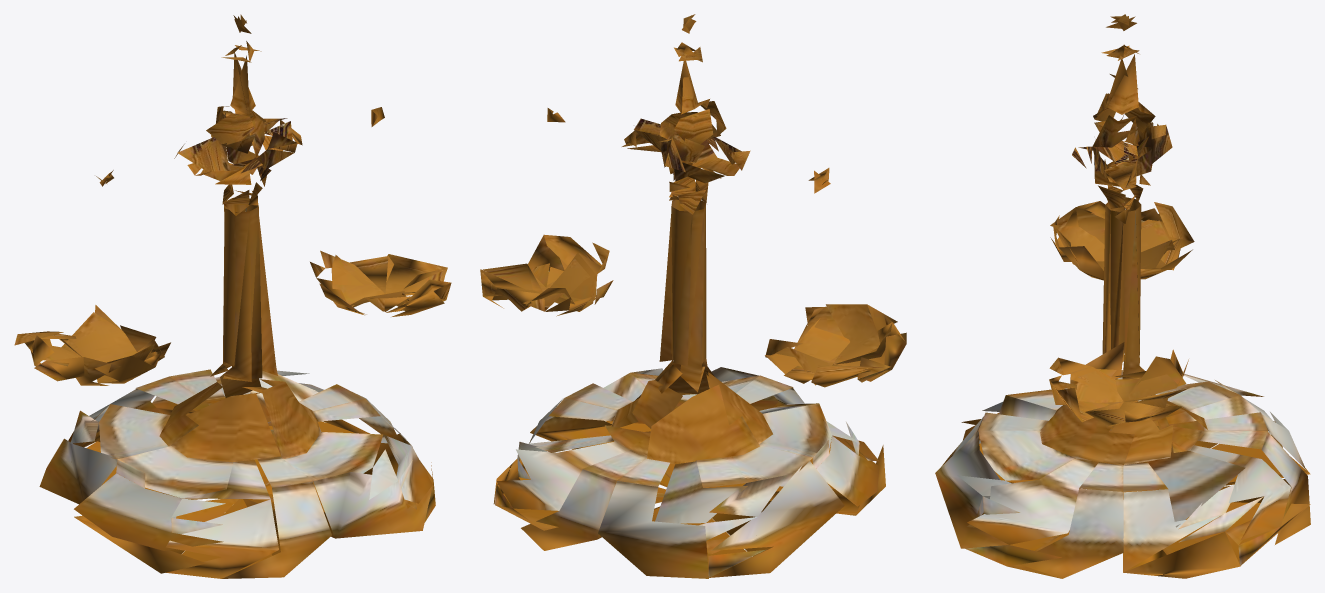
File: keepsake-scales.lod1.glb
3 views of the same model, side by side, from view 1: azimuth 30°, elevation 25°; view 2: azimuth 150°, elevation 25°; view 3: azimuth 270°, elevation 25° (orthographic).
Visible parts, largest first — view 1: keepsake-scales_lod1; view 2: keepsake-scales_lod1; view 3: keepsake-scales_lod1.
Part boxes in pixels (x1,y1,x2,y2): keepsake-scales_lod1: [14, 14, 451, 578]; keepsake-scales_lod1: [480, 14, 906, 578]; keepsake-scales_lod1: [935, 14, 1310, 578].
Bounding box in the file's own units: 0.5411 × 0.5925 × 0.4164.
Materials: 1 (1 with a texture image).
